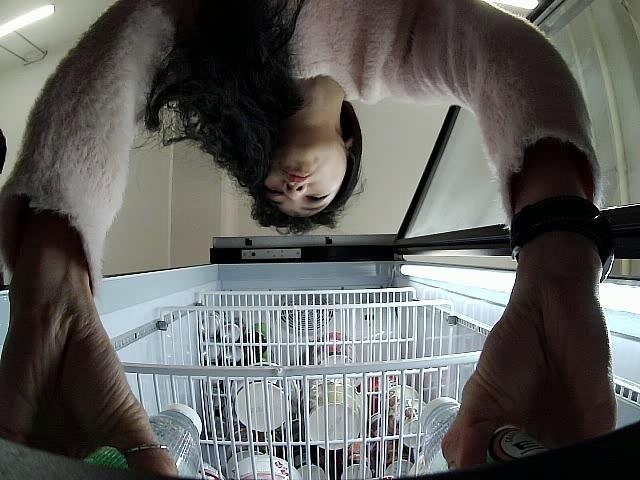18_trevi: (421, 396, 558, 475), (84, 401, 204, 480)
